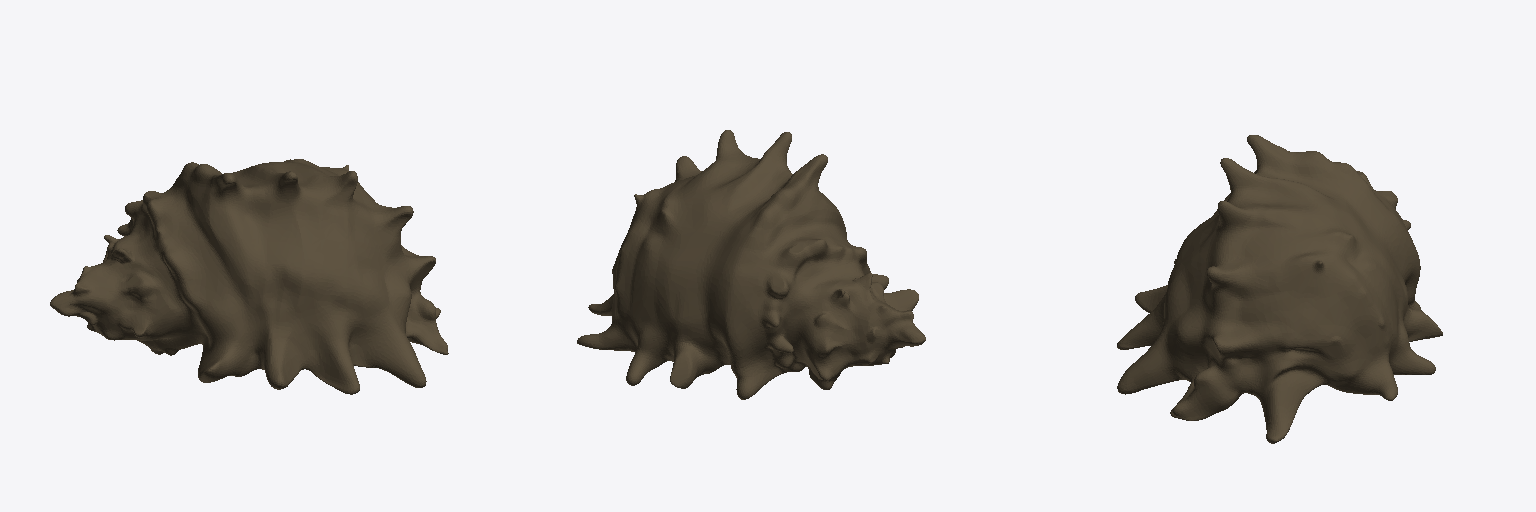
Rendered from shell.obj.
3 renders of one model, left to right at view 1: azimuth 30°, elevation 25°; view 2: azimuth 150°, elevation 25°; view 3: azimuth 270°, elevation 25°, orthographic.
Parts seen in each view (by area): view 1: Rakushka; view 2: Rakushka; view 3: Rakushka.
Boxes of the visible parts, box(x1,y1,x2,y2) form: Rakushka: box(50, 159, 448, 394); Rakushka: box(577, 130, 925, 399); Rakushka: box(1117, 135, 1442, 443).
Bounding box in the file's own units: 7.76 × 4.16 × 6.04.